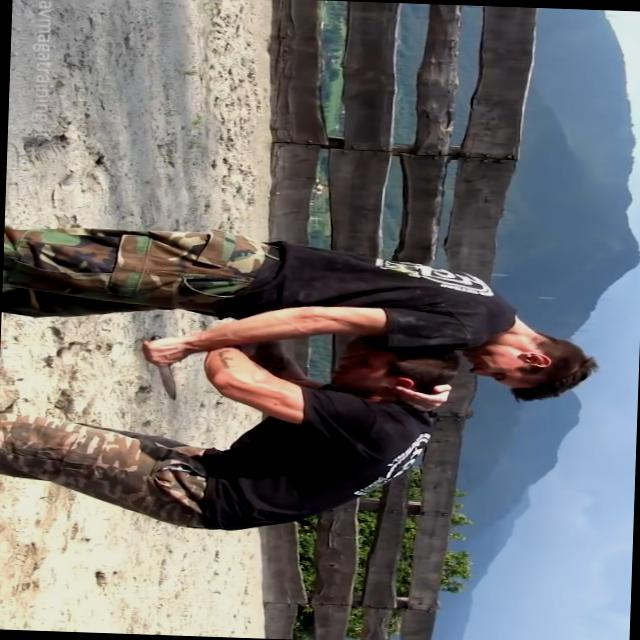knife: (134, 332, 190, 406)
